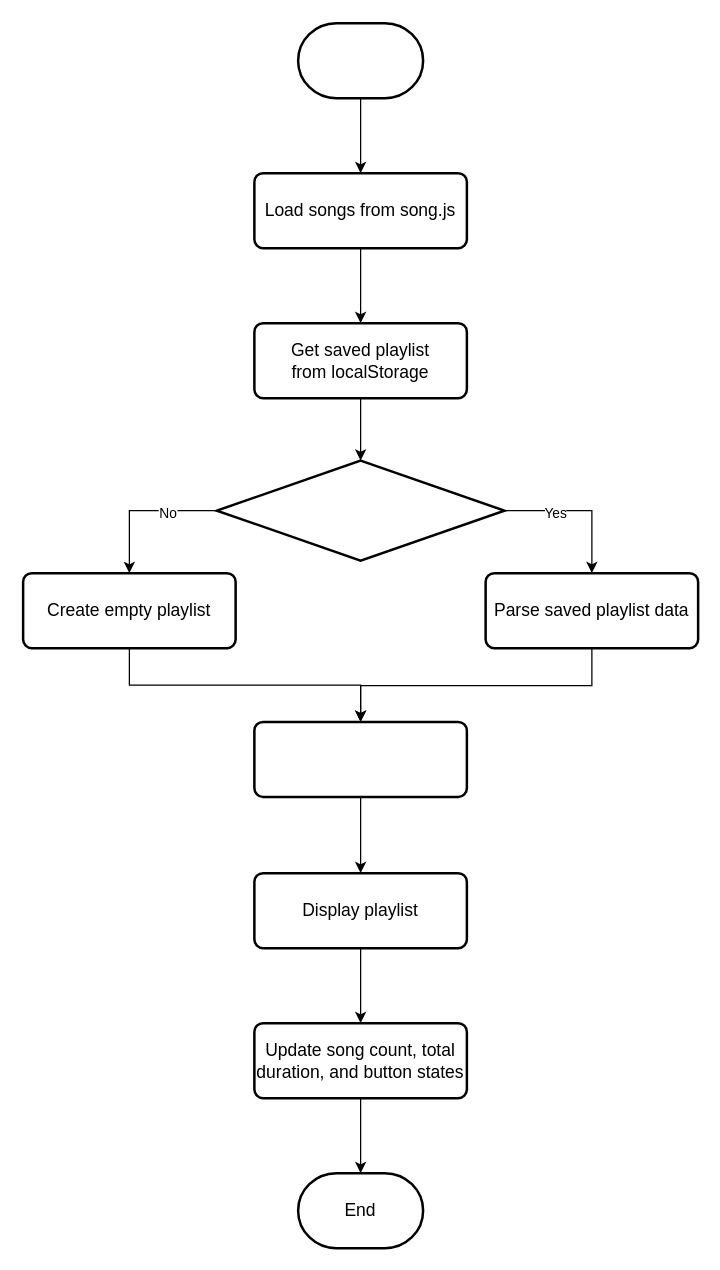
Image size: 720x1270. Some labels were removed from this diagram. Here are the shapes that lost their labels. From the top down, the box of each, then its label:
(296, 21, 424, 99): Start
(215, 459, 505, 561): Saved playlist found?
(252, 720, 468, 798): Display music collection
